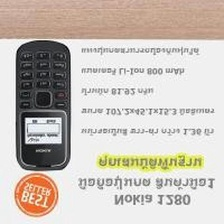phone: (11, 36, 74, 174)
